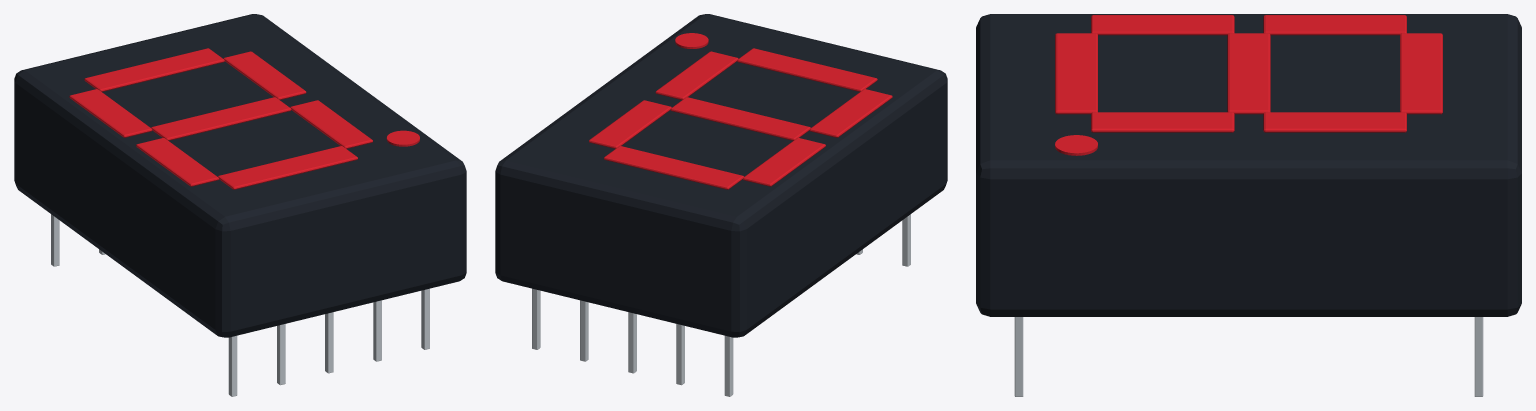
File: seven-segment.glb
3 renders of one model, left to right at view 1: azimuth 30°, elevation 25°; view 2: azimuth 150°, elevation 25°; view 3: azimuth 270°, elevation 25°, orthographic. The views are drawn at different scales.
Parts seen in each view (by area): view 1: Static body • black, Static body • red, Static body • silver; view 2: Static body • black, Static body • red, Static body • silver; view 3: Static body • black, Static body • red, Static body • silver.
Boxes of the visible parts, x1,y1,x2,y2 form: Static body • black: [14, 14, 466, 337]; Static body • red: [69, 48, 419, 189]; Static body • silver: [51, 214, 429, 396]; Static body • black: [495, 14, 947, 337]; Static body • red: [589, 33, 892, 189]; Static body • silver: [532, 214, 910, 396]; Static body • black: [976, 14, 1521, 316]; Static body • red: [1055, 15, 1442, 155]; Static body • silver: [1014, 317, 1483, 396].
Bounding box in the file's own units: 26 × 19.3 × 38.
